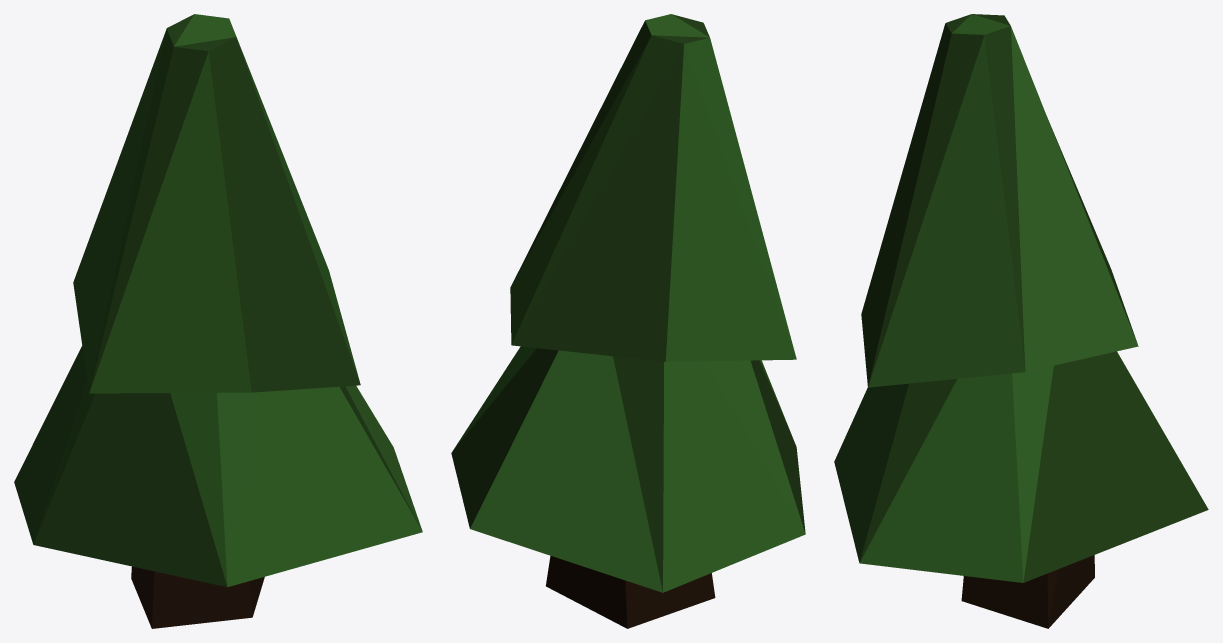
File: Tree2_M1_2_small.fbx
3 views of the same model, side by side, from view 1: azimuth 30°, elevation 25°; view 2: azimuth 150°, elevation 25°; view 3: azimuth 270°, elevation 25° (orthographic). The views are drawn at different scales.
Visible parts, largest first — view 1: Tree2_M1_2_small; view 2: Tree2_M1_2_small; view 3: Tree2_M1_2_small.
Part boxes in pixels (left/top/right/bottom): Tree2_M1_2_small: left=14, top=14, right=422, bottom=628; Tree2_M1_2_small: left=451, top=14, right=805, bottom=628; Tree2_M1_2_small: left=834, top=14, right=1208, bottom=628.
Bounding box in the file's own units: 95.6 × 147 × 89.06.
